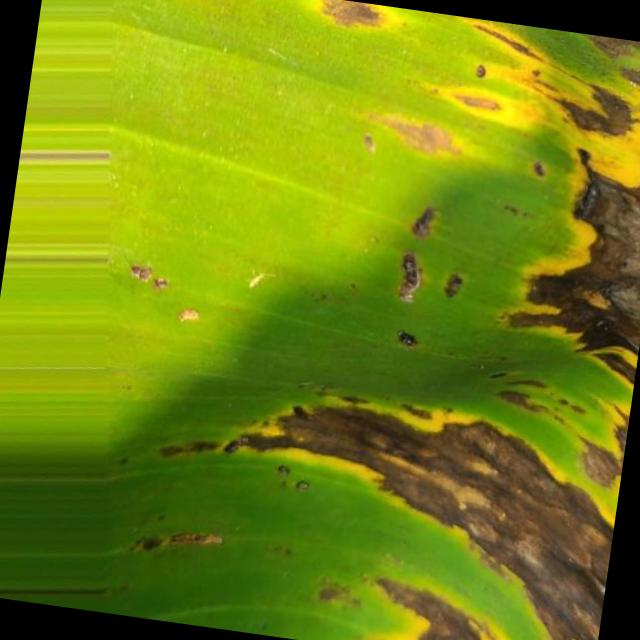Banana_Black_Sigatoka: (290, 5, 640, 390), (163, 359, 629, 640)
